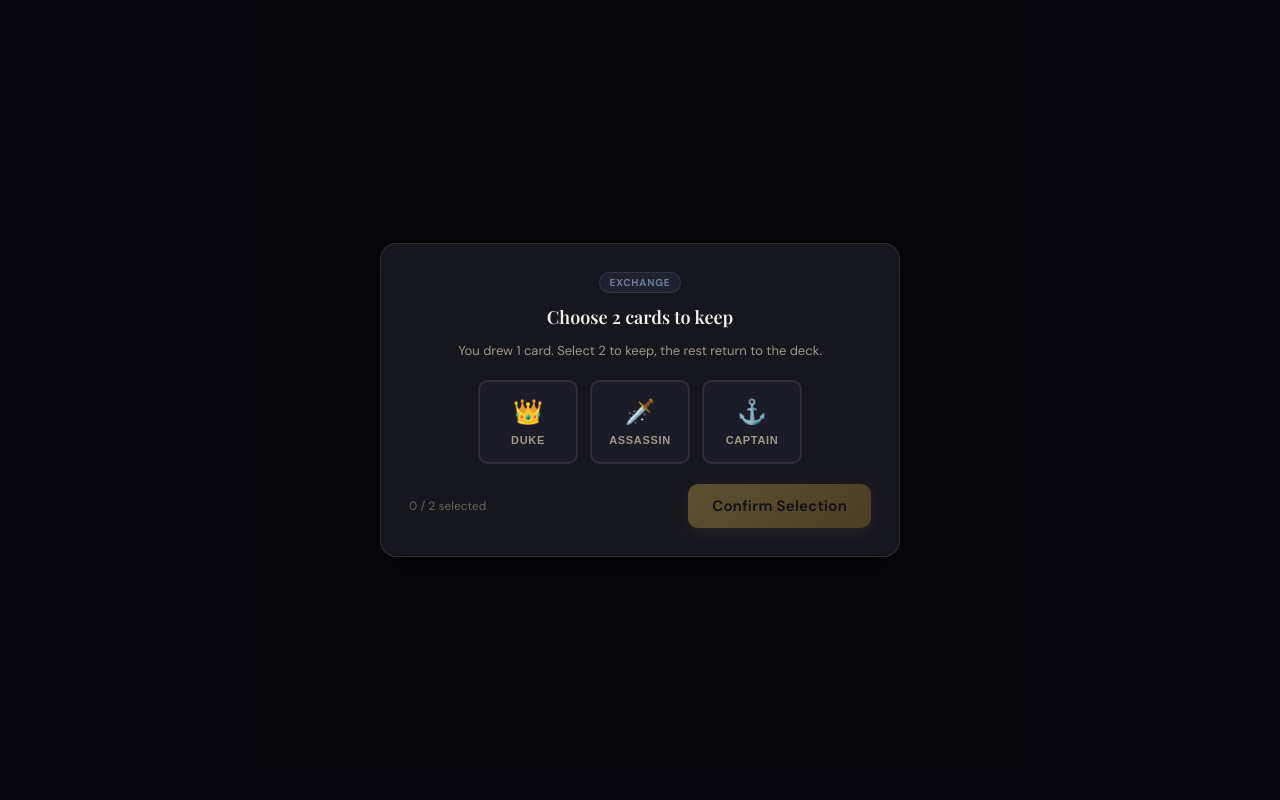
Test: ExchangeModal component @unit › toggles a card off again when clicked twice
Click the text "DUKE" at x=528, y=440, box x1=511 y1=434 x2=545 y2=446
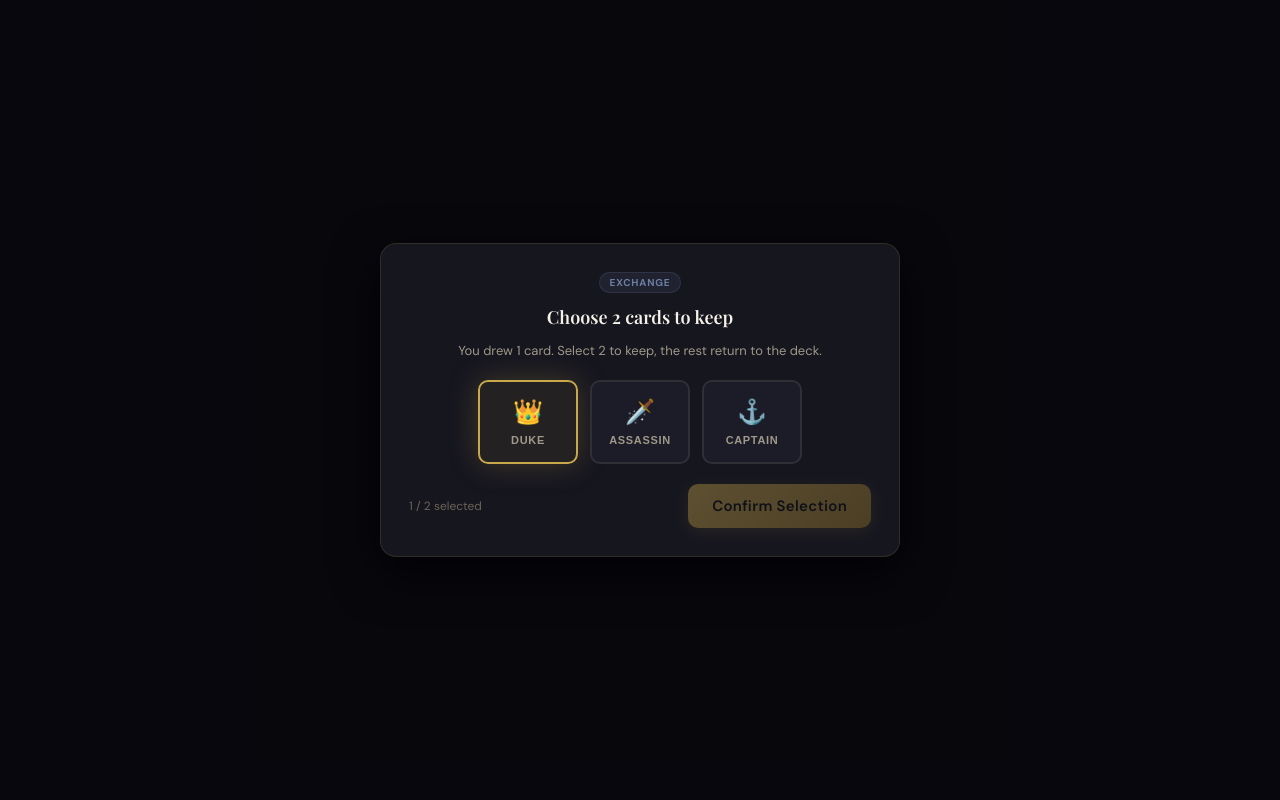
Now the text "1 / 2 selected" is shown, box x1=409 y1=498 x2=482 y2=514
Click the text "DUKE" at x=528, y=440, box x1=511 y1=434 x2=545 y2=446
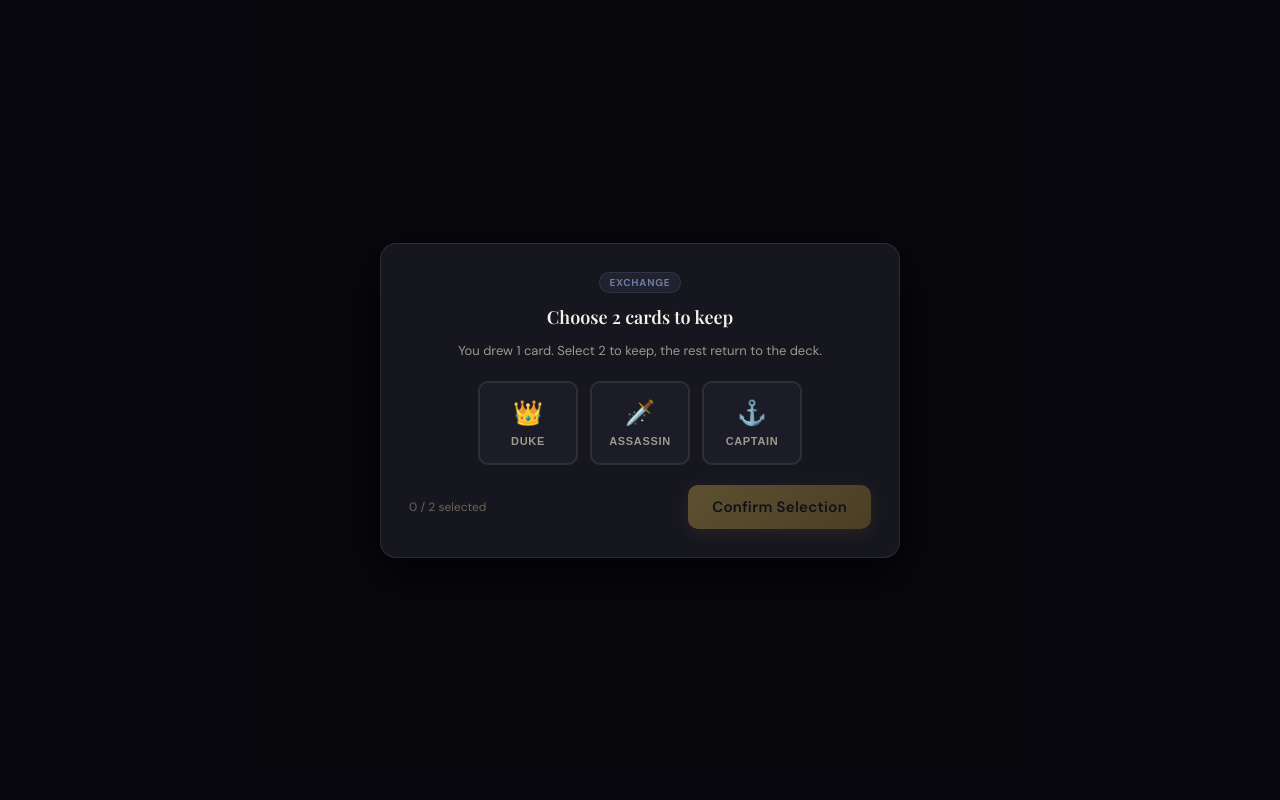
Now the text "0 / 2 selected" is shown, box x1=409 y1=498 x2=486 y2=514
